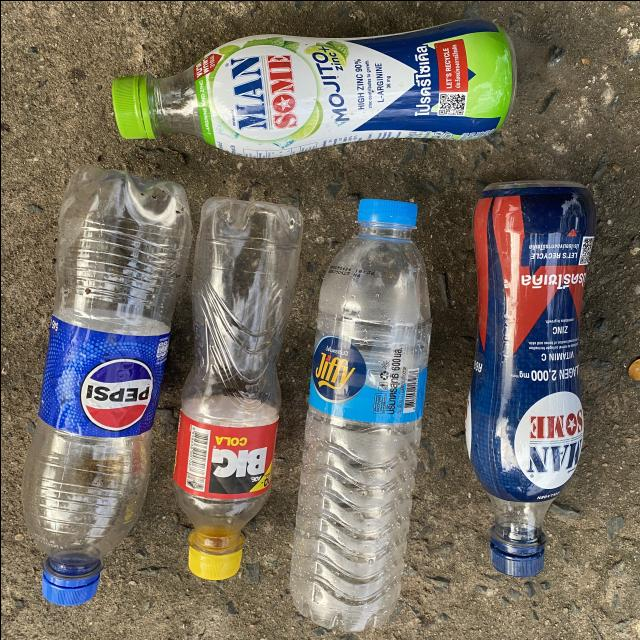plastik: (21, 165, 191, 604), (289, 199, 431, 631), (111, 19, 515, 156), (465, 180, 595, 577), (173, 196, 302, 578)
